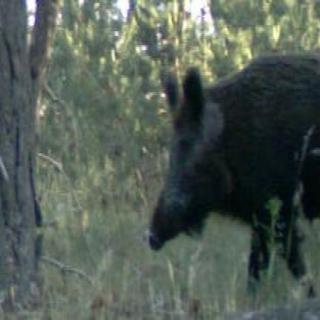Pig: (146, 49, 320, 284)
